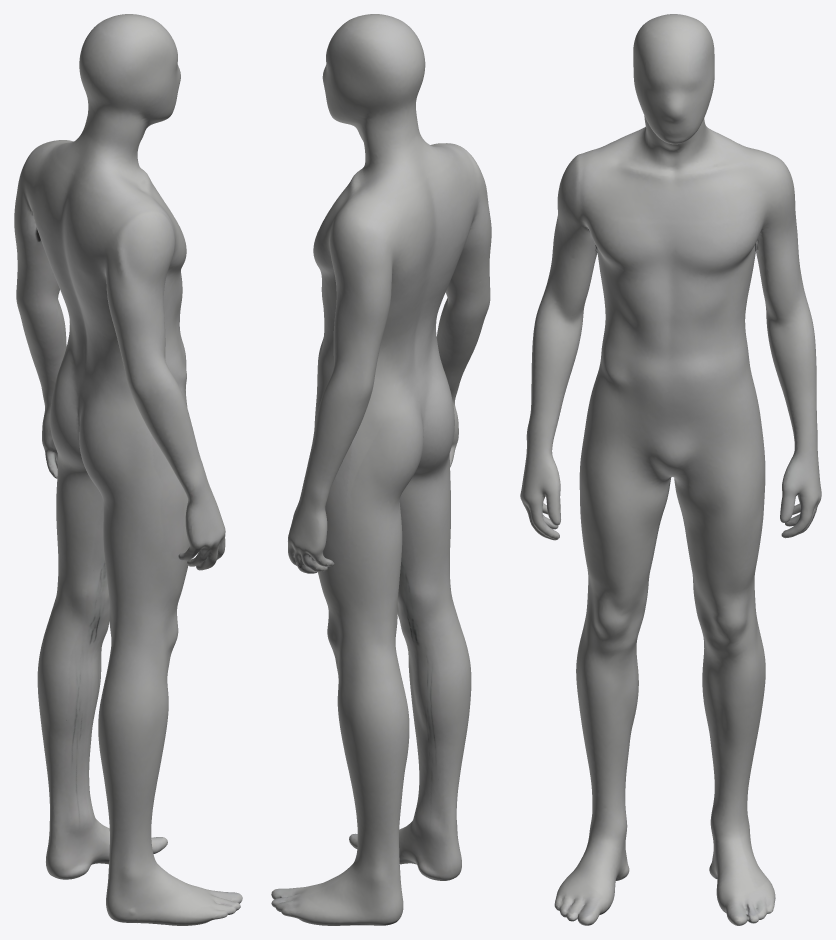
Rendered from male-slim.glb.
The picture shows the model from 3 angles, left to right: view 1: azimuth 30°, elevation 25°; view 2: azimuth 150°, elevation 25°; view 3: azimuth 270°, elevation 25°; orthographic projection.
Parts seen in each view (by area): view 1: tripo_node_13cc4dbc-30b2-454e-aa85-631536bc5582; view 2: tripo_node_13cc4dbc-30b2-454e-aa85-631536bc5582; view 3: tripo_node_13cc4dbc-30b2-454e-aa85-631536bc5582.
Boxes of the visible parts, <box> form: tripo_node_13cc4dbc-30b2-454e-aa85-631536bc5582: <box>14,14,242,925</box>; tripo_node_13cc4dbc-30b2-454e-aa85-631536bc5582: <box>271,14,491,925</box>; tripo_node_13cc4dbc-30b2-454e-aa85-631536bc5582: <box>520,14,821,925</box>.
Size of the model in its own units: 0.1679 by 1 by 0.3102.
1 material, 1 textured.
